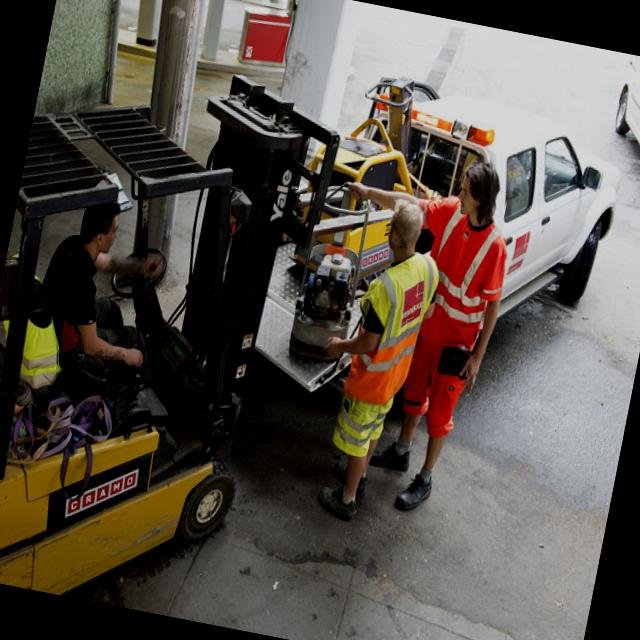Vehicle: (0, 12, 640, 640), (603, 53, 640, 188)
